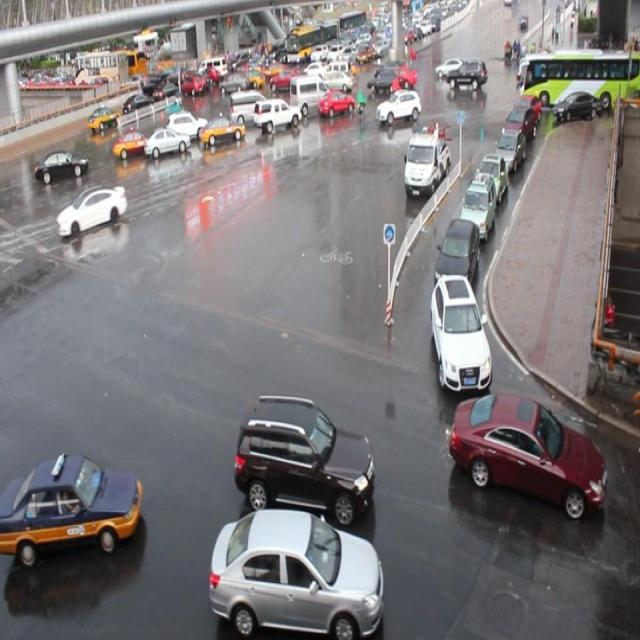bus: (403, 125, 450, 199)
car: (210, 506, 382, 640), (447, 390, 606, 518), (235, 392, 374, 523), (1, 452, 142, 566), (428, 274, 492, 389), (58, 184, 127, 237), (435, 214, 481, 291), (460, 173, 498, 242), (473, 150, 509, 208), (36, 146, 89, 184), (252, 96, 302, 133), (199, 112, 247, 150), (144, 126, 192, 160), (375, 88, 420, 124), (166, 108, 209, 144), (495, 124, 527, 170), (507, 106, 539, 150), (113, 129, 153, 158), (318, 90, 355, 117), (517, 94, 543, 132)
truck: (288, 75, 332, 115), (228, 90, 271, 128)
